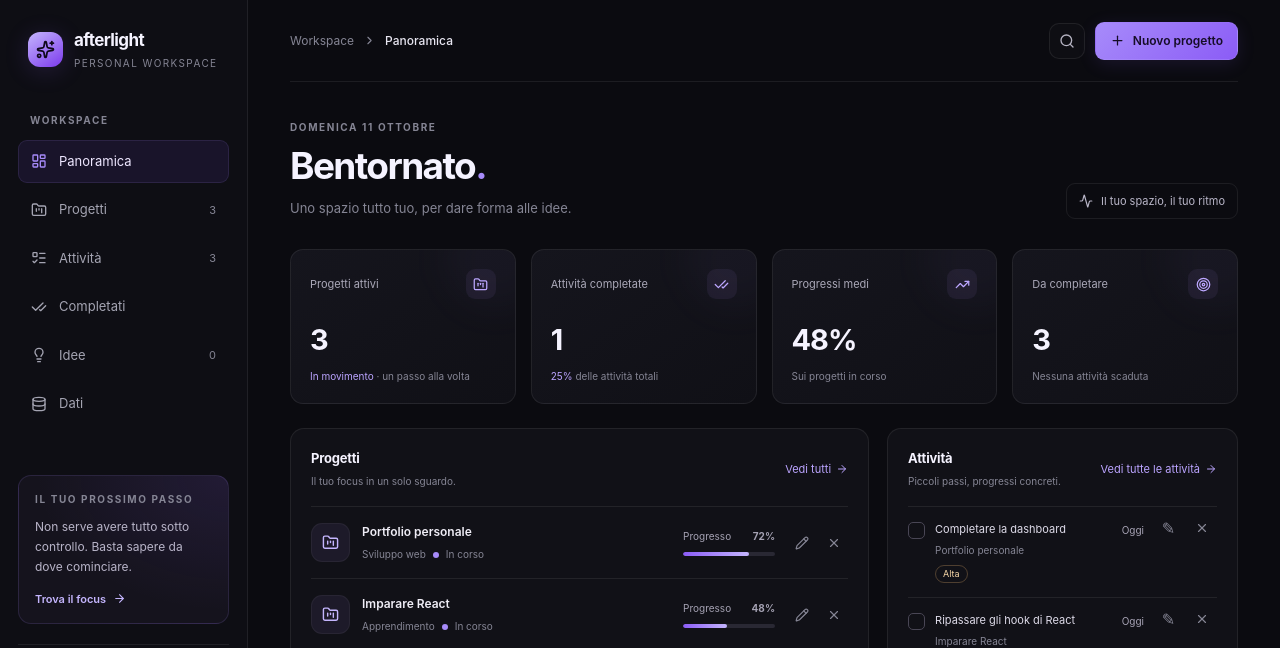
Test: Afterlight dashboard › conferma la cancellazione del progetto e conserva le attività scollegate
Click the button named "Elimina progetto Portfolio personale" at x=834, y=542, box [819,528,848,557]
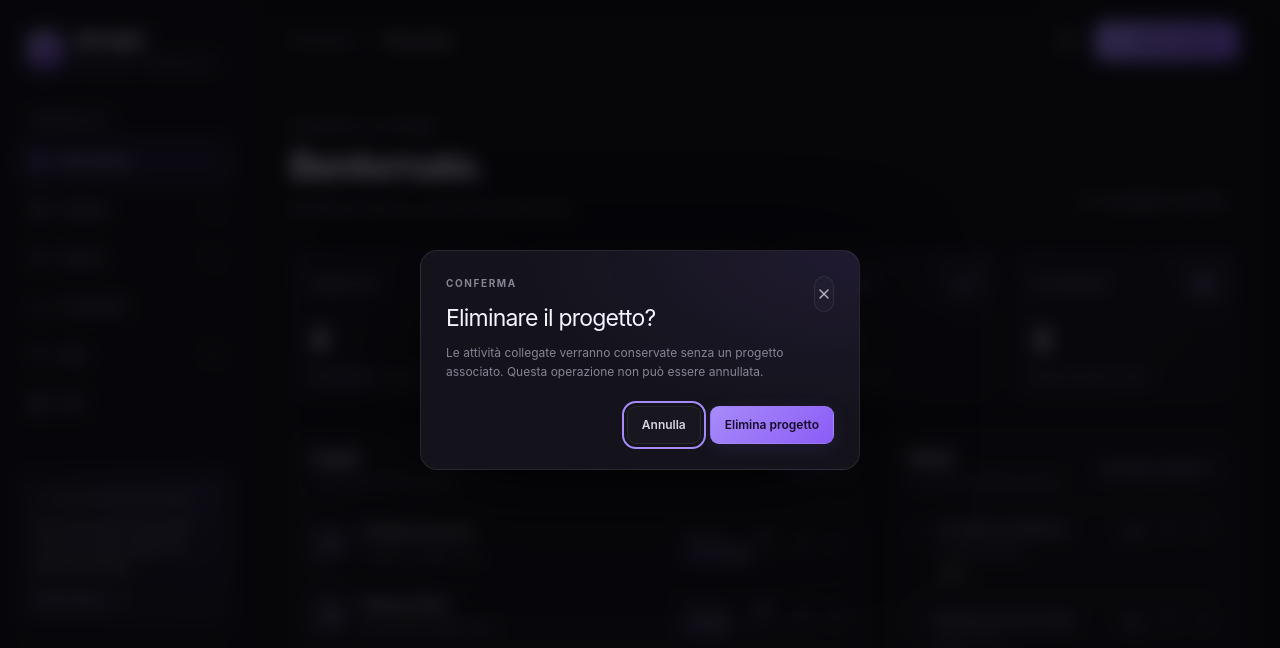
expect the dialog is shown: met, box [420,250,860,470]
Click the button "Elimina progetto" at x=772, y=425, box [710,406,834,444]
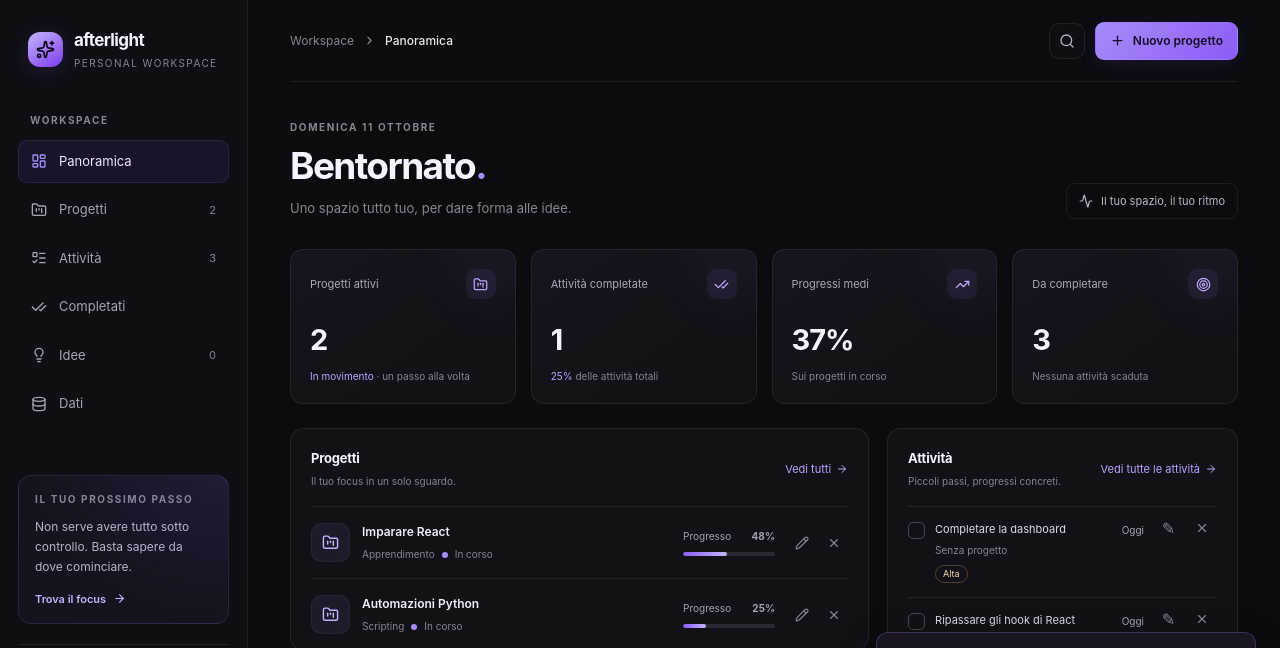
expect the text "Portfolio personale" is gone: met
expect the text "Senza progetto" is shown: met, box [935,544,1007,556]
